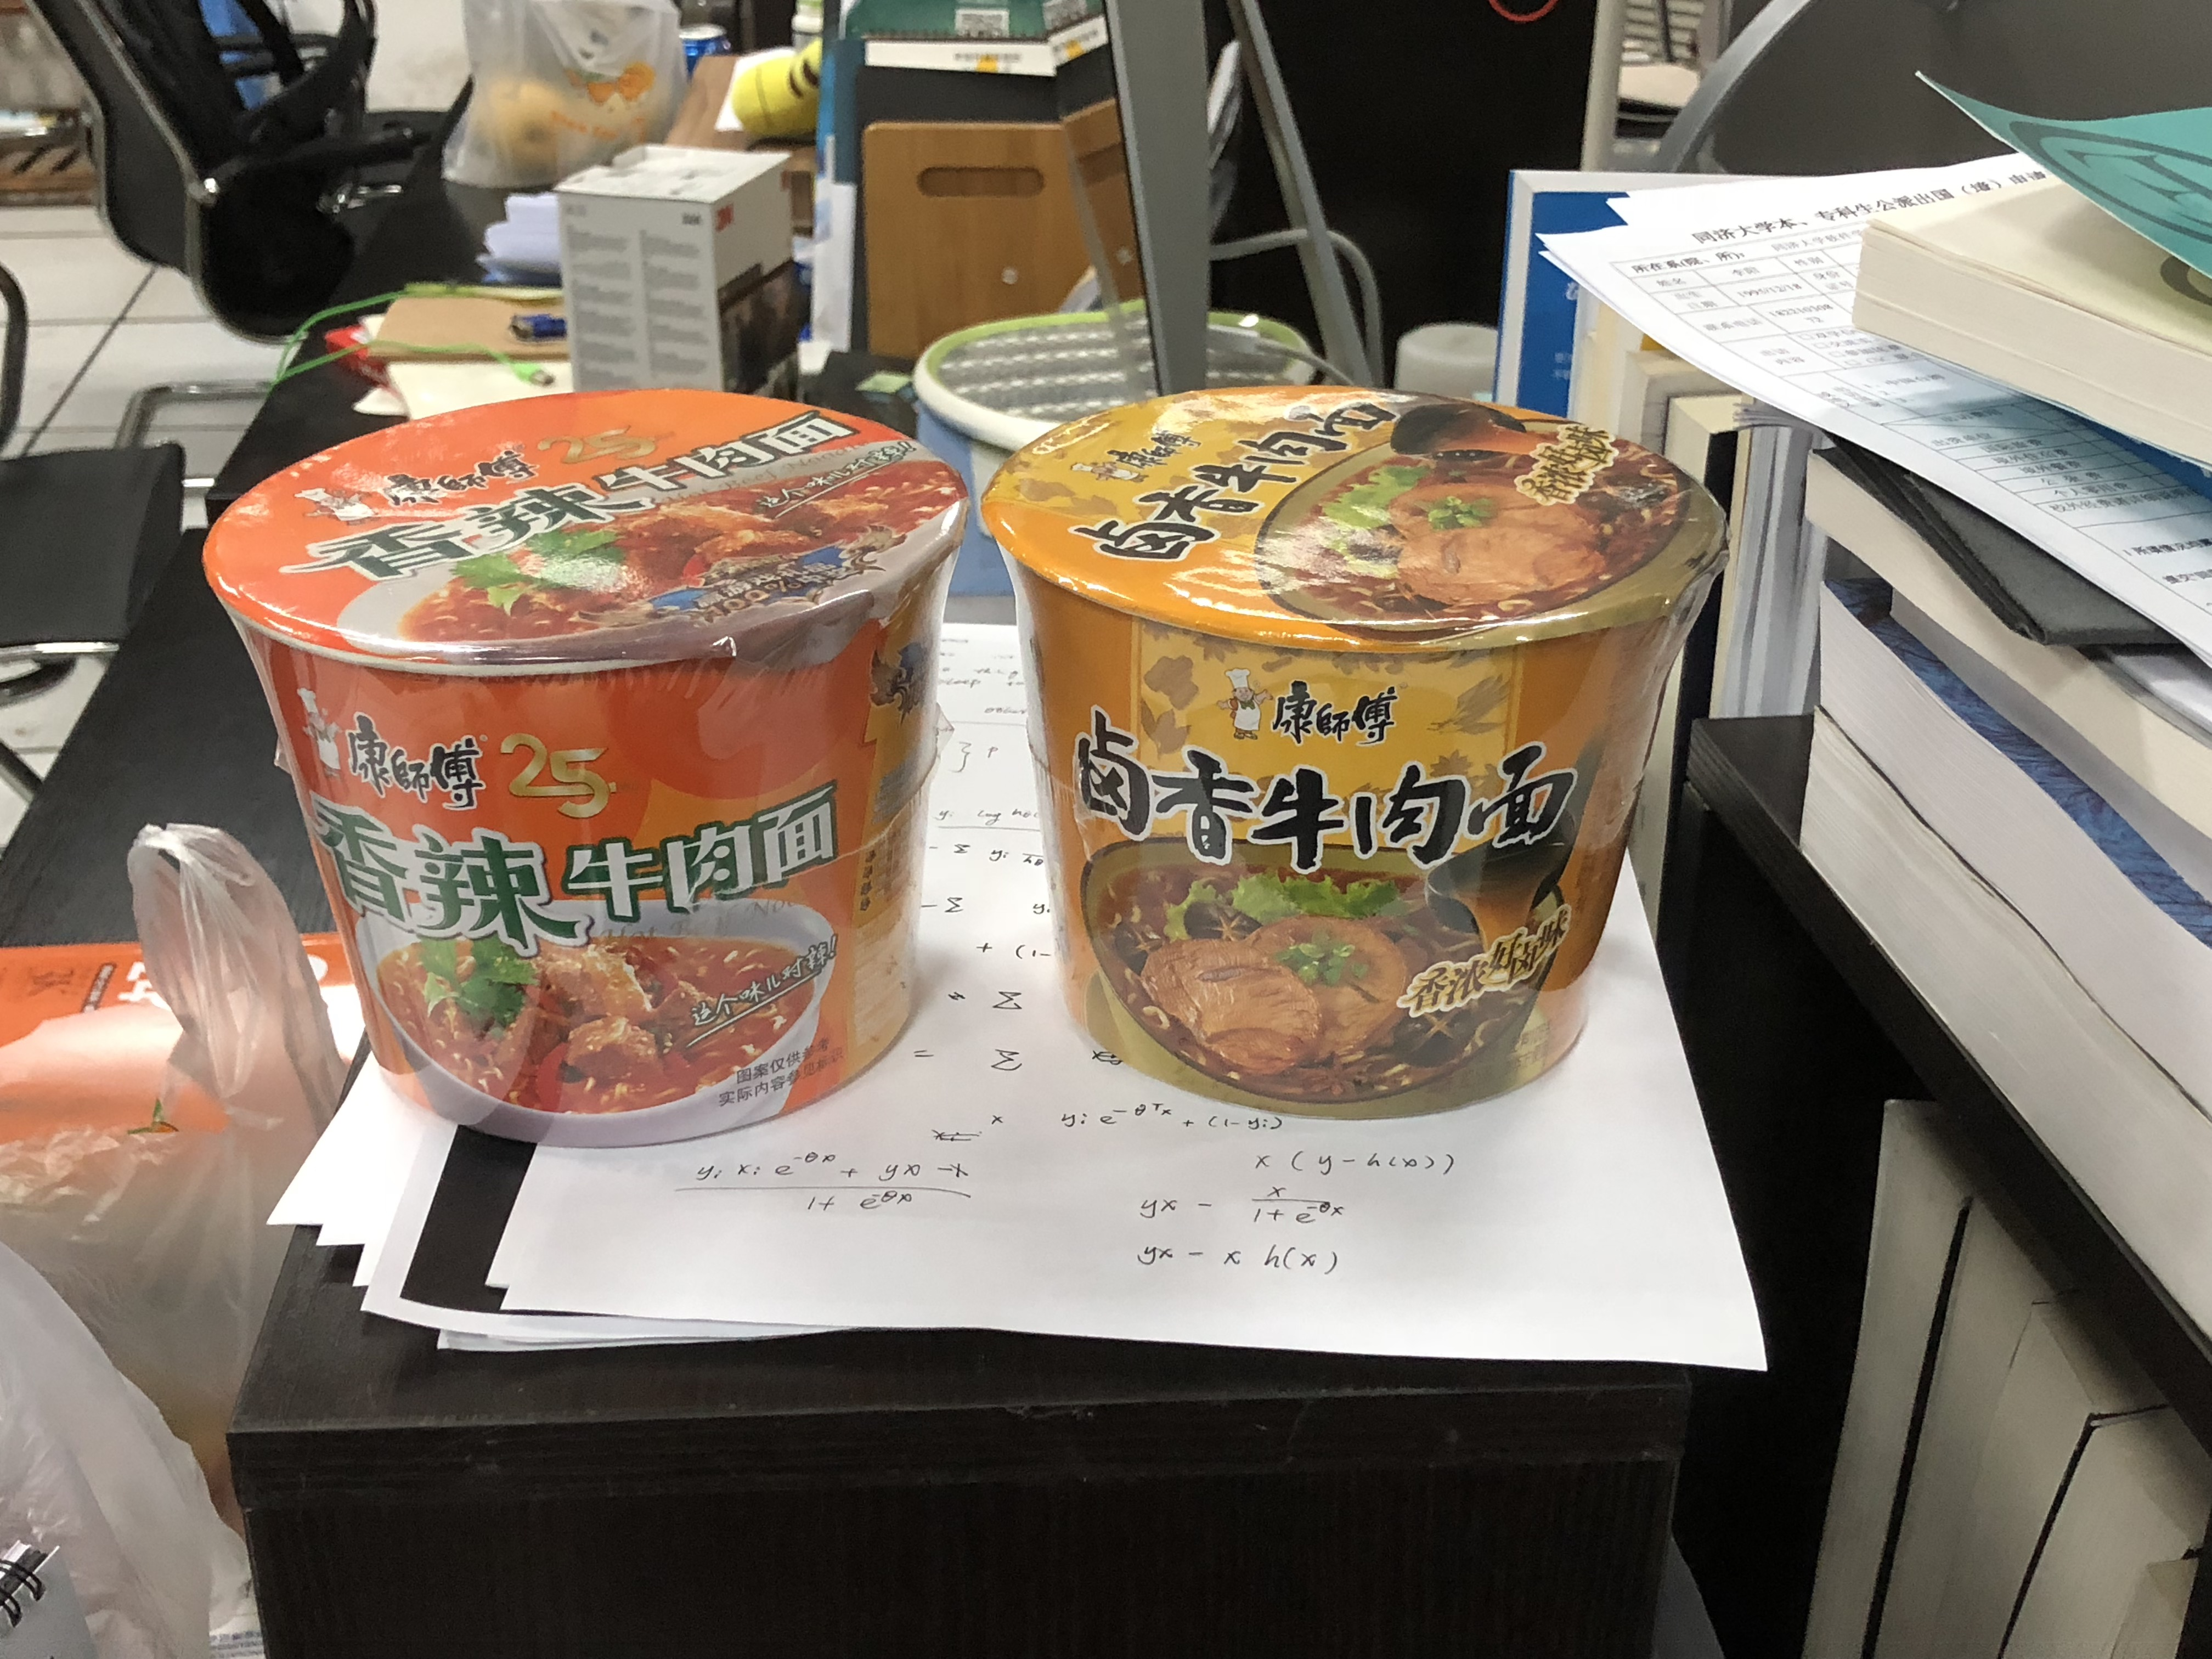luxiang: (979, 389, 1730, 1124)
xiangla: (200, 389, 968, 1150)
